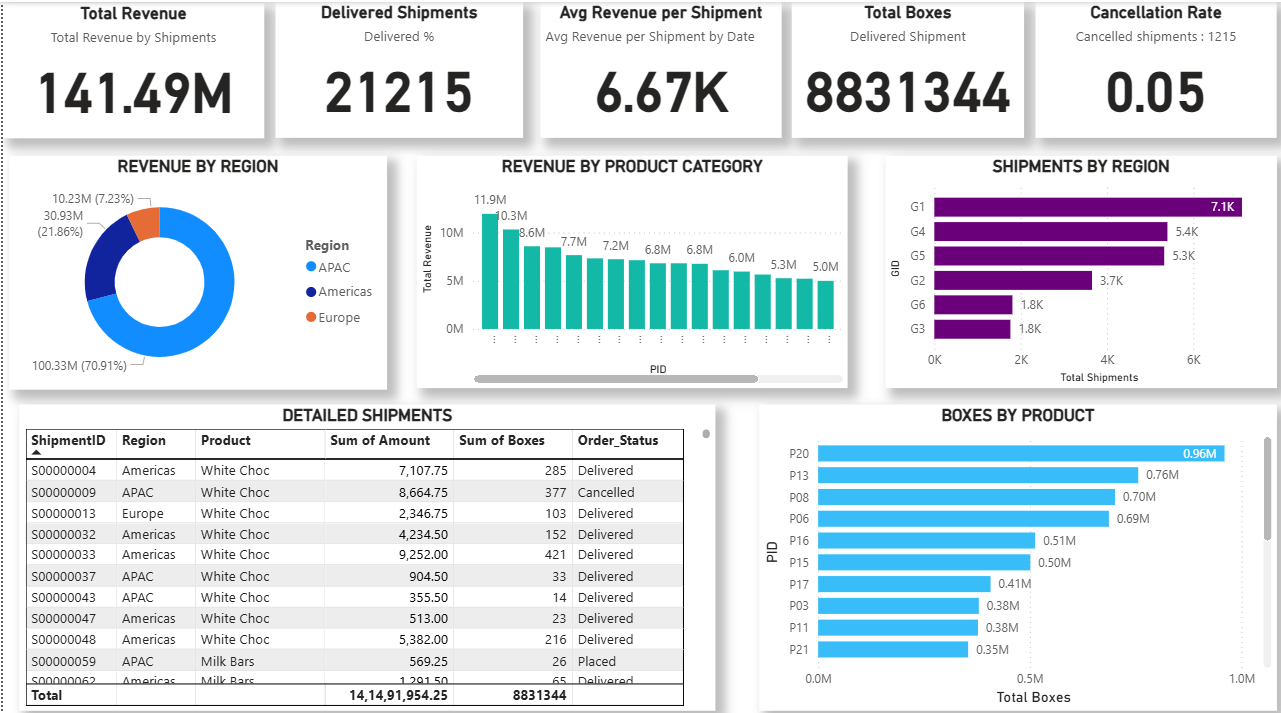

The page's visual inventory and layout, read from the dashboard file:
{"tool":"powerbi","page":{"name":"Page 1","canvas":[1280,720],"ordinal":0},"visuals":[{"type":"actionButton","box":[0,0,100,40],"z":0},{"type":"kpi","title":"Total Revenue","fields":{"Indicator":["Sales.Total Revenue"],"TrendLine":["Sales.Date"]},"box":[0,1.2,260,134.3],"z":1000},{"type":"kpi","title":"Delivered Shipments ","fields":{"Indicator":["Sales.Delivered Shipments"],"TrendLine":["Sales.Date"]},"box":[271.2,0,246.3,135.6],"z":2000},{"type":"kpi","title":"Avg Revenue per Shipment","fields":{"Indicator":["Sales.Avg Revenue per Shipment"],"TrendLine":["Sales.Date"]},"box":[534.9,0,240.1,135.6],"z":3000},{"type":"kpi","title":"Total Boxes ","fields":{"Indicator":["Sales.Total Boxes"],"TrendLine":["Sales.Date"]},"box":[784.9,0,231.4,135.6],"z":4000},{"type":"kpi","title":"Cancellation Rate ","fields":{"TrendLine":["Sales.Date"],"Indicator":["Sales.Cancellation Rate"]},"box":[1027.5,0,240.1,135.6],"z":5000},{"type":"donutChart","title":"REVENUE BY REGION","fields":{"Y":["Sales.Total Revenue"],"Category":["locations.Region"]},"box":[6.2,153,375.7,232.6],"z":6000},{"type":"clusteredColumnChart","title":"REVENUE BY PRODUCT CATEGORY","fields":{"Y":["Sales.Total Revenue"],"Category":["Shipments.PID"]},"box":[411.8,153,429.2,231.4],"z":7000},{"type":"clusteredBarChart","title":"SHIPMENTS BY REGION","fields":{"Category":["locations.GID"],"Y":["Sales.Total Shipments"]},"box":[878.2,153,389.4,231.4],"z":8000},{"type":"barChart","title":"BOXES BY PRODUCT","fields":{"Category":["Shipments.PID"],"Y":["Sales.Total Boxes"]},"box":[752.6,400.6,515,304.8],"z":9000},{"type":"tableEx","title":"DETAILED SHIPMENTS","fields":{"Values":["Shipments.ShipmentID","locations.Region","products.Product","Sum(Shipments.Amount)","Sum(Shipments.Boxes)","Shipments.Order_Status"]},"box":[16.2,400.6,692.9,304.8],"z":10000}]}

Visuals, with their boxes in screenshot pixels (x1, y1, x2, y2), scaled from the page's 1280x720 canvas onto the 1281x713 screenshot:
actionButton: 0 0 100 40
"Total Revenue" kpi: 0 1 260 134
"Delivered Shipments " kpi: 271 0 518 134
"Avg Revenue per Shipment" kpi: 535 0 776 134
"Total Boxes " kpi: 786 0 1017 134
"Cancellation Rate " kpi: 1028 0 1269 134
"REVENUE BY REGION" donutChart: 6 152 382 382
"REVENUE BY PRODUCT CATEGORY" clusteredColumnChart: 412 152 842 381
"SHIPMENTS BY REGION" clusteredBarChart: 879 152 1269 381
"BOXES BY PRODUCT" barChart: 753 397 1269 699
"DETAILED SHIPMENTS" tableEx: 16 397 710 699
